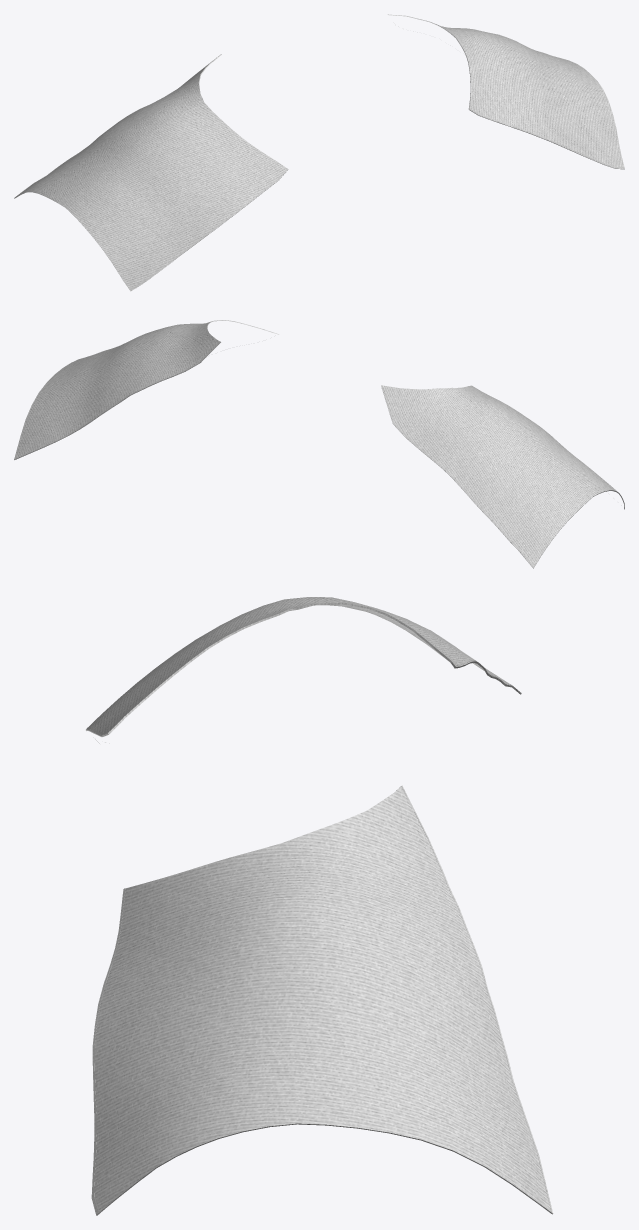
The model's file is Decor_Shoulder.glb.
3 views of the same model, one above another, from view 1: azimuth 30°, elevation 25°; view 2: azimuth 150°, elevation 25°; view 3: azimuth 270°, elevation 25° (orthographic). The views are drawn at different scales.
Parts seen in each view (by area): view 1: Decor_Shoulder1, Rope1; view 2: Decor_Shoulder1, Rope1; view 3: Decor_Shoulder1, Rope1.
Part boxes in pixels (bbox=[...]): Decor_Shoulder1: bbox=[14, 14, 624, 291]; Rope1: bbox=[14, 14, 624, 290]; Decor_Shoulder1: bbox=[14, 320, 624, 568]; Rope1: bbox=[14, 334, 624, 567]; Decor_Shoulder1: bbox=[86, 597, 553, 1215]; Rope1: bbox=[87, 629, 551, 1214].
Bounding box in the file's own units: 0.7904 × 0.2034 × 0.3041.
2 materials, 2 textured.
